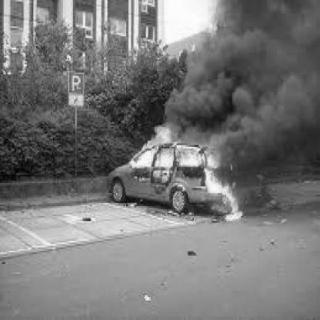Fire: (126, 121, 246, 228)
Smoke: (170, 0, 318, 156)
